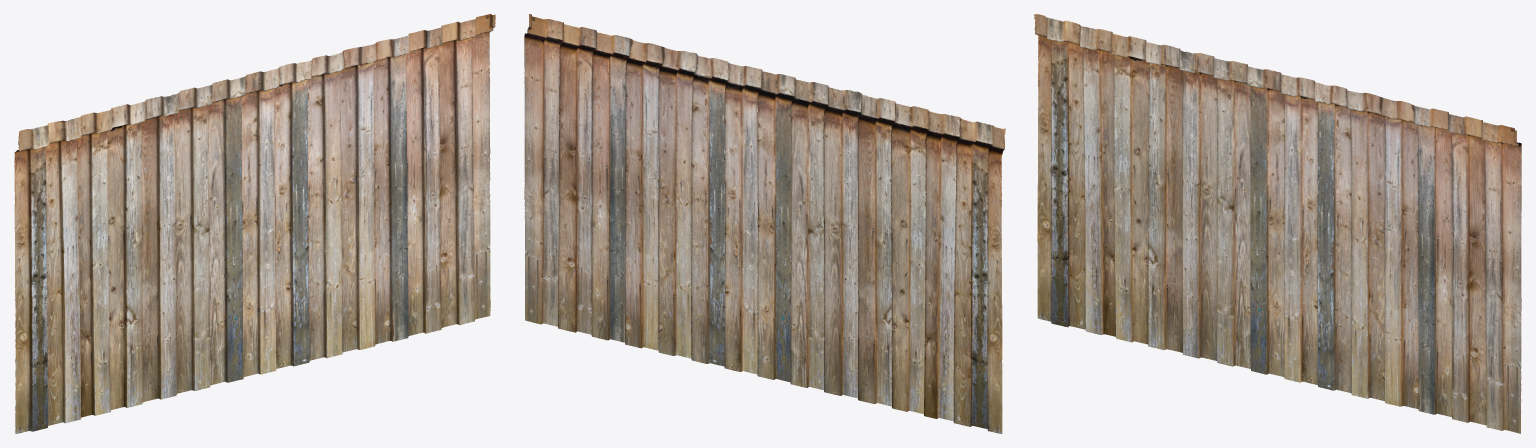
Rendered from wooden_wall.glb.
The picture shows the model from 3 angles, left to right: view 1: azimuth 30°, elevation 25°; view 2: azimuth 150°, elevation 25°; view 3: azimuth 330°, elevation 25°; orthographic projection.
Visible parts, largest first — view 1: Object_2, Object_3; view 2: Object_2, Object_3; view 3: Object_2, Object_3.
Boxes of the visible parts, <box> form: Object_2: <box>14,14,495,433</box>; Object_3: <box>14,21,490,415</box>; Object_2: <box>524,14,1005,433</box>; Object_3: <box>525,23,1001,416</box>; Object_2: <box>1034,14,1521,433</box>; Object_3: <box>1037,17,1521,414</box>.
Size of the model in its own units: 2.93 by 1.78 by 0.0909.
Materials: 1 (1 with a texture image).
